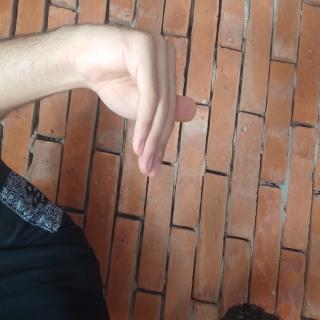KHAA: (15, 161, 133, 320)
